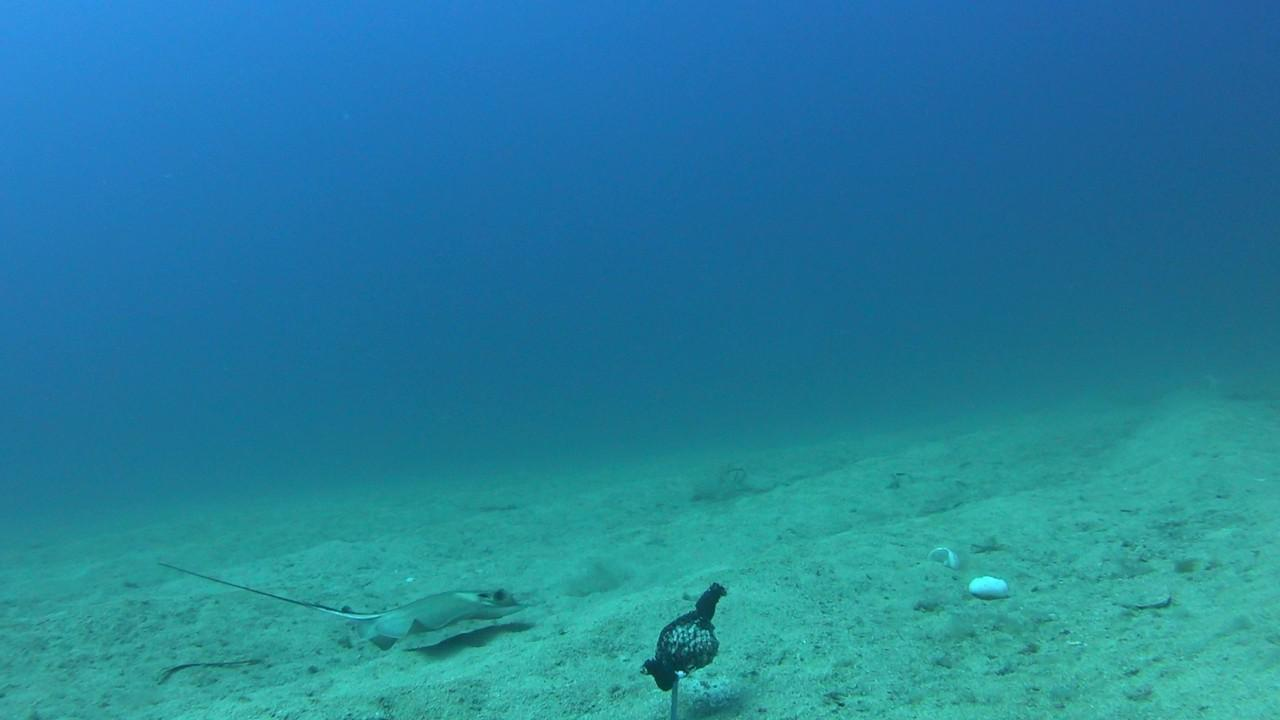myliobatis: (145, 553, 545, 661)
